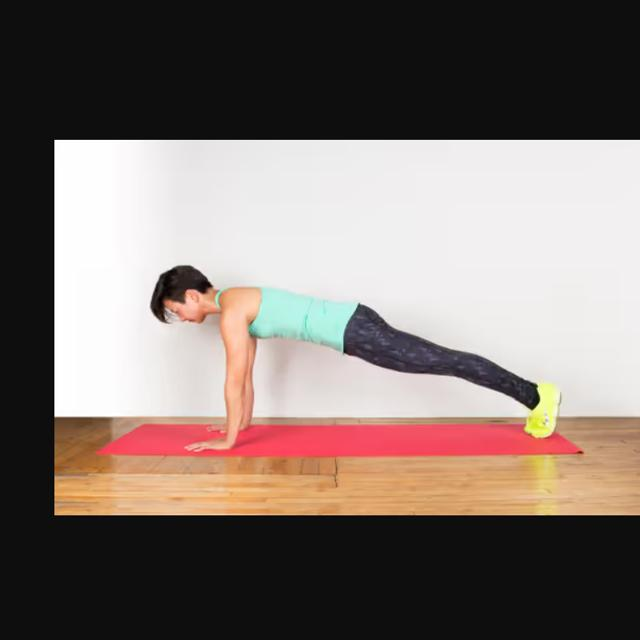Plank_Pose: (149, 255, 569, 458)
